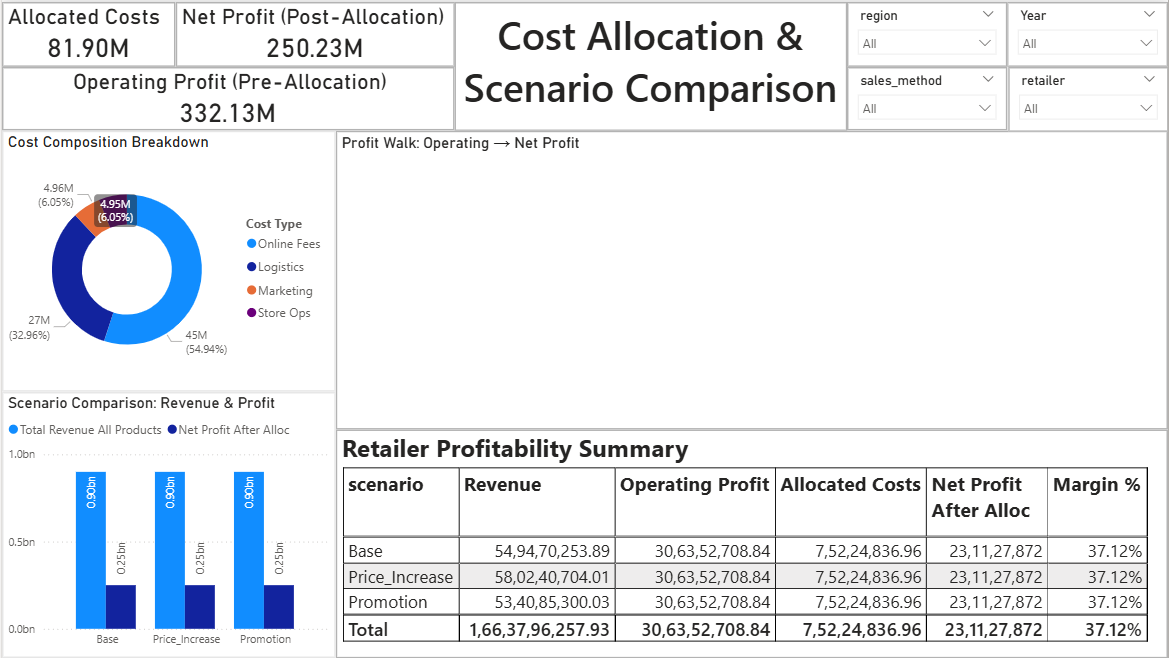

This screenshot's page, from the dashboard's own definition file:
{"tool":"powerbi","page":{"name":"Cost Allocation & Scenarios","canvas":[1280,720],"ordinal":4},"visuals":[{"type":"textbox","box":[496.7,0,430.9,141.3],"z":0},{"type":"card","title":"Operating Profit (Pre-Allocation)","fields":{"Values":["Table.Total Operating Profit"]},"box":[0,71.4,496.7,70],"z":1000},{"type":"card","title":"Net Profit (Post-Allocation)","fields":{"Values":["Table.Net Profit After Alloc"]},"box":[190.7,0,306,71.4],"z":2000},{"type":"card","title":"Allocated Costs","fields":{"Values":["Table.Total Allocated Costs"]},"box":[0,0,190.7,71.4],"z":3000},{"type":"columnChart","title":"Profit Walk: Operating → Net Profit","fields":{"Category":["Fact_Sales.operating_profit","Dim_Alloc_Assumptions.logistics_pct","Dim_Alloc_Assumptions.marketing_per_unit","Dim_Alloc_Assumptions.store_ops_pct","Dim_Alloc_Assumptions.online_fee_pct","Fact_Sales.net_profit_after_alloc"],"Y":["Table.Total Operating Profit","Table.Alloc_Marketing","Table.Alloc_OnlineFee","Table.Alloc_StoreOps","Table.Alloc_Logistics","Table.Net Profit After Alloc"]},"box":[366.4,141.3,913.9,328],"z":4000},{"type":"tableEx","title":"Retailer Profitability Summary","fields":{"Values":["Tbl_Scenario_Agg.scenario","Sum(Tbl_Scenario_Agg.total_revenue)","Sum(Fact_Sales.operating_profit)","Table.Total Allocated Costs","Table.Net Profit After Alloc","Table.Gross Margin %"]},"box":[366.4,469.3,913.9,251.1],"z":5000},{"type":"slicer","fields":{"Values":["Dim_Date.Year"]},"box":[1103.3,0,177,71.4],"z":6000},{"type":"slicer","fields":{"Values":["Dim_Region.region"]},"box":[927.6,0,175.6,71.4],"z":7000},{"type":"slicer","fields":{"Values":["Fact_Sales.sales_method"]},"box":[927.6,71.4,175.6,70],"z":8000},{"type":"slicer","fields":{"Values":["Dim_Retailer.retailer"]},"box":[1104.6,71.4,175.6,71.4],"z":11000},{"type":"clusteredColumnChart","title":"Scenario Comparison: Revenue & Profit","fields":{"Y":["Table.Total Revenue All Products","Table.Net Profit After Alloc"],"Category":["Tbl_Scenario_Agg.scenario"]},"box":[0,428.1,366.4,292.3],"z":12000},{"type":"donutChart","title":"Cost Composition Breakdown","fields":{"Y":["Cost_Type (2).Allocated Cost Amount"],"Category":["Cost_Type (2).Cost Type"]},"box":[0,141.3,366.4,286.8],"z":13000}]}

Visuals, with their boxes in screenshot pixels (x1, y1, x2, y2), scaled from the page's 1280x720 canvas onto the 1169x658 screenshot:
textbox: {"left": 454, "top": 0, "right": 847, "bottom": 129}
"Operating Profit (Pre-Allocation)" card: {"left": 0, "top": 65, "right": 454, "bottom": 129}
"Net Profit (Post-Allocation)" card: {"left": 174, "top": 0, "right": 454, "bottom": 65}
"Allocated Costs" card: {"left": 0, "top": 0, "right": 174, "bottom": 65}
"Profit Walk: Operating → Net Profit" columnChart: {"left": 335, "top": 129, "right": 1168, "bottom": 429}
"Retailer Profitability Summary" tableEx: {"left": 335, "top": 429, "right": 1168, "bottom": 657}
slicer - Dim_Date.Year: {"left": 1008, "top": 0, "right": 1168, "bottom": 65}
slicer - Dim_Region.region: {"left": 847, "top": 0, "right": 1008, "bottom": 65}
slicer - Fact_Sales.sales_method: {"left": 847, "top": 65, "right": 1008, "bottom": 129}
slicer - Dim_Retailer.retailer: {"left": 1009, "top": 65, "right": 1168, "bottom": 131}
"Scenario Comparison: Revenue & Profit" clusteredColumnChart: {"left": 0, "top": 391, "right": 335, "bottom": 657}
"Cost Composition Breakdown" donutChart: {"left": 0, "top": 129, "right": 335, "bottom": 391}
